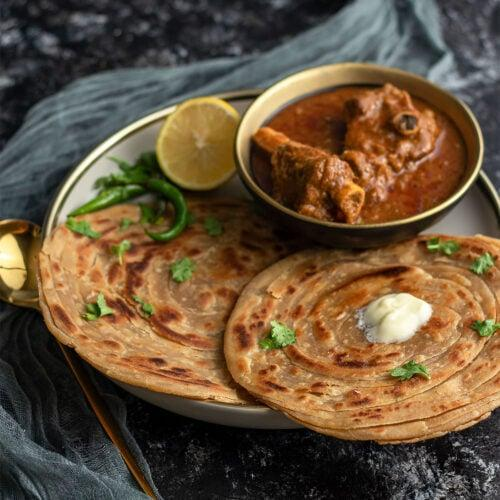paratha: (228, 240, 500, 433), (63, 202, 266, 408)
